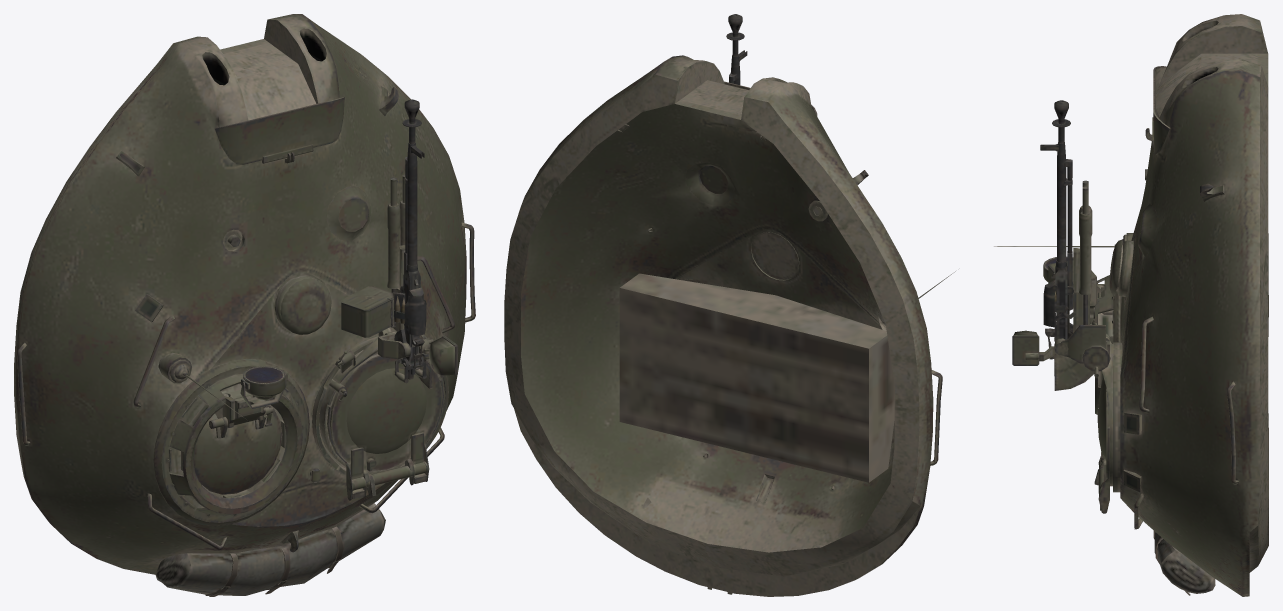
File: Turret_01.glb
The picture shows the model from 3 angles, left to right: view 1: azimuth 30°, elevation 25°; view 2: azimuth 150°, elevation 25°; view 3: azimuth 270°, elevation 25°; orthographic projection. The views are drawn at different scales.
Visible parts, largest first — view 1: set_0_group_0; view 2: set_0_group_0; view 3: set_0_group_0.
Part boxes in pixels (left/top/right/bottom): set_0_group_0: left=14, top=14, right=475, bottom=596; set_0_group_0: left=504, top=14, right=955, bottom=596; set_0_group_0: left=994, top=14, right=1268, bottom=596.
Bounding box in the file's own units: 2.78 × 3.18 × 1.52.
Materials: 1 (1 with a texture image).
